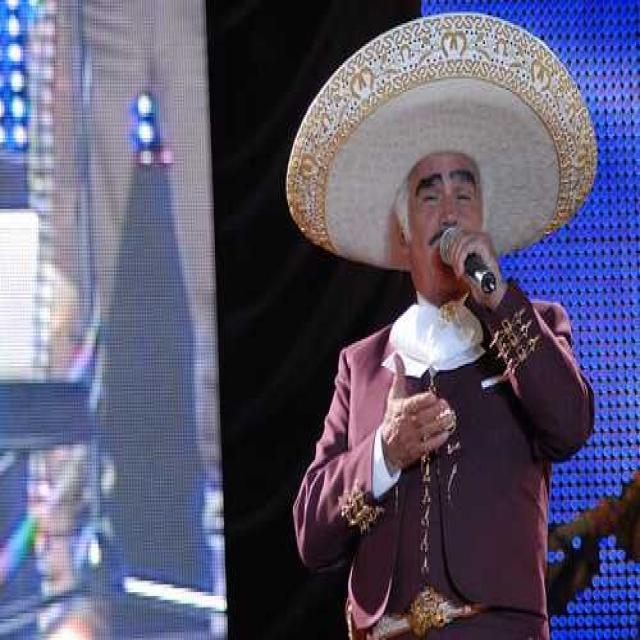microphone: (435, 224, 497, 302)
